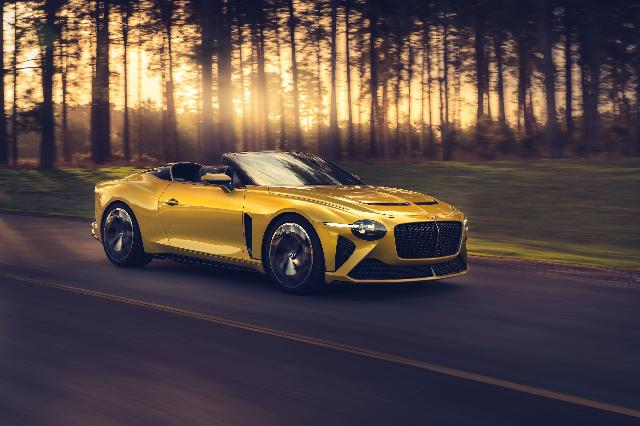bentley: (90, 149, 472, 294)
